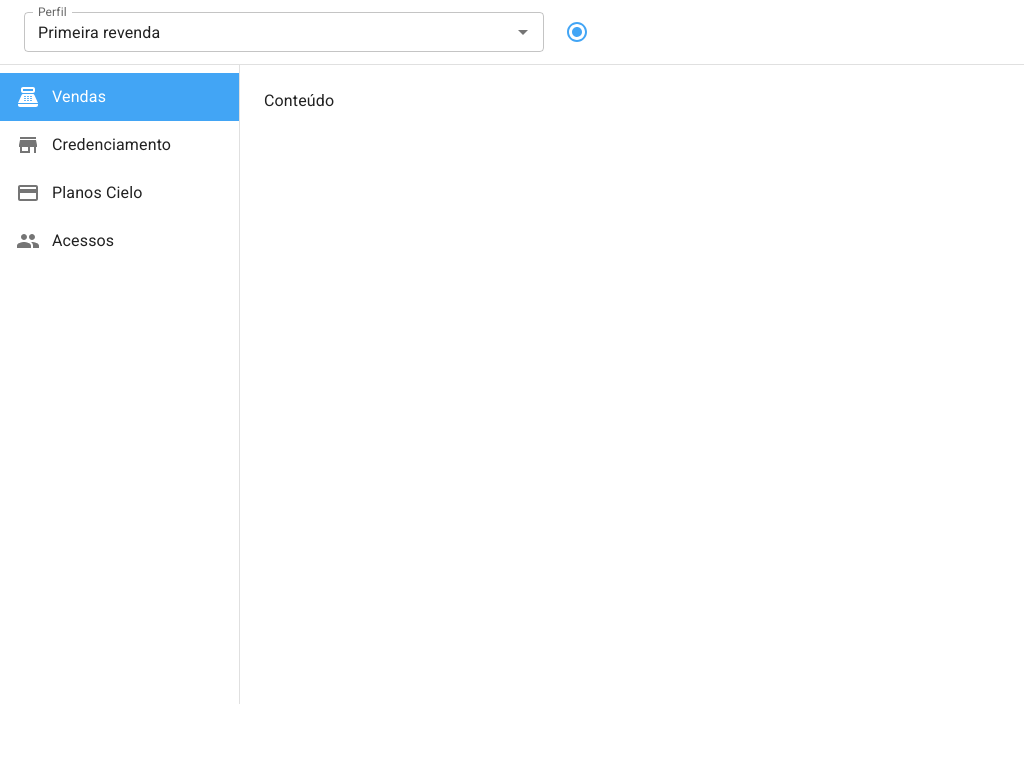
it: BusinessLayout business selector › groups stores as establishments and both reseller types as resellers
Click the dropdown: (254, 32) [30,18,479,46]
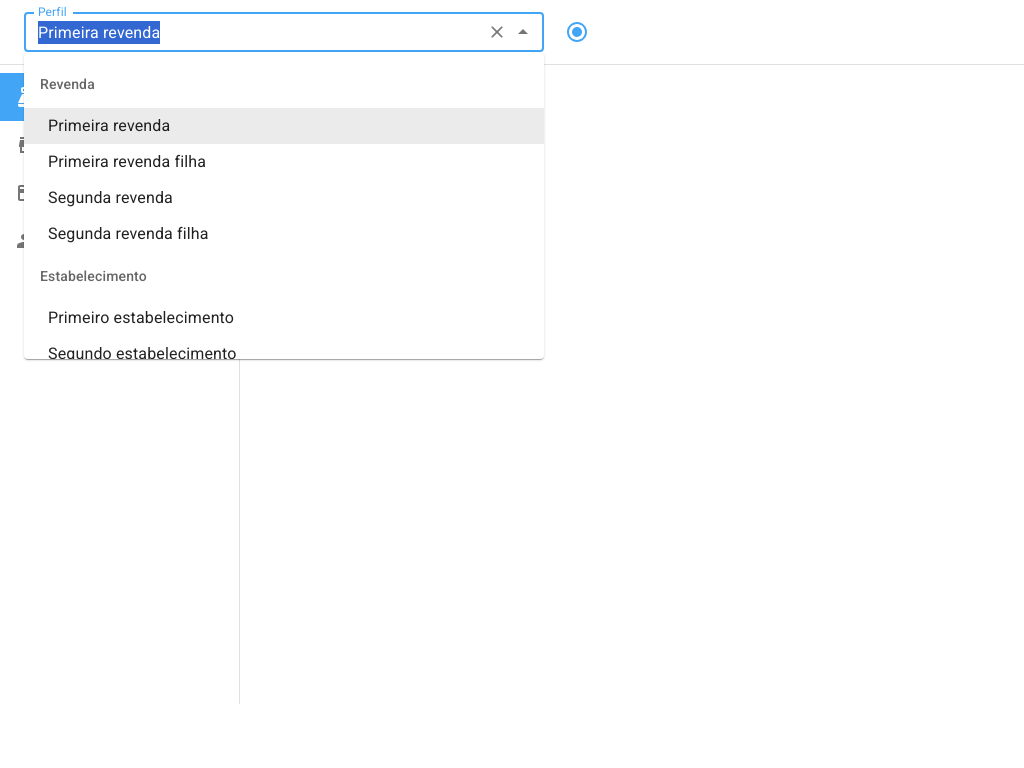
Check: the text "Estabelecimento" is shown, box [24,252,544,300]
Check: the text "Revenda" is shown, box [24,60,544,108]
Check: the option "Primeira revenda" is shown, box [24,108,544,144]
